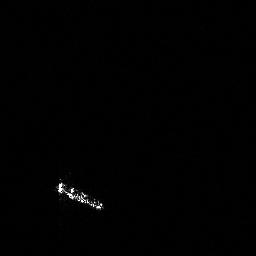ship: (50, 173, 108, 215)
